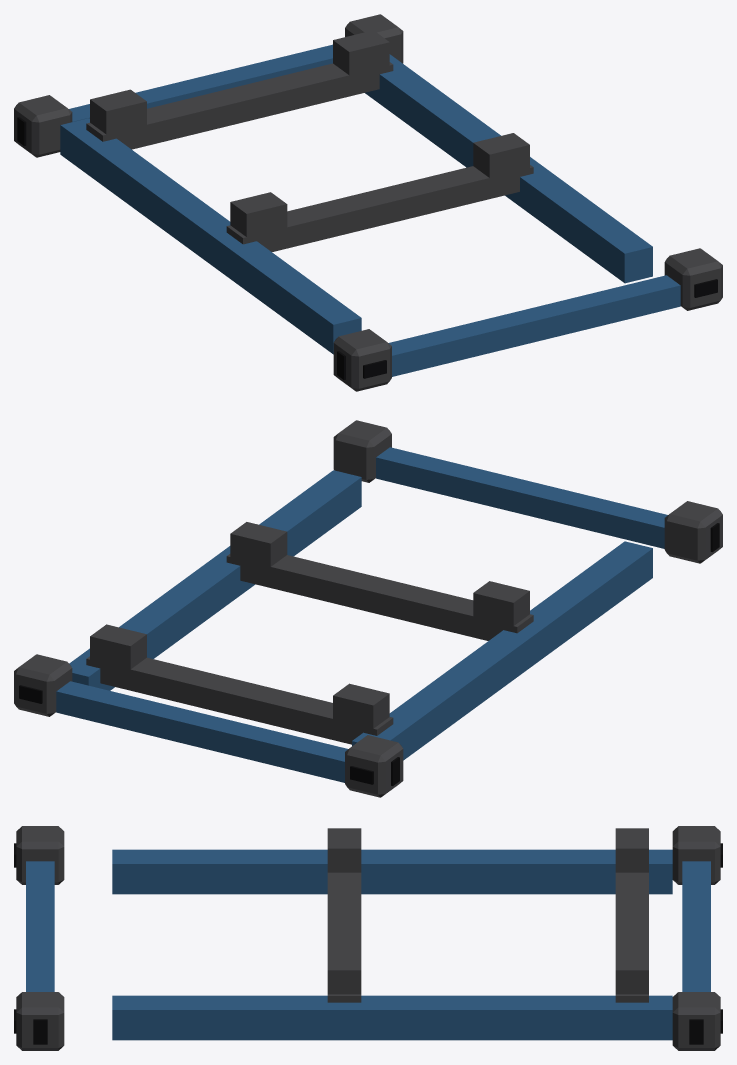
The model's file is pellet_frame.obj.
3 views of the same model, one above another, from view 1: azimuth 30°, elevation 25°; view 2: azimuth 150°, elevation 25°; view 3: azimuth 270°, elevation 25° (orthographic). The views are drawn at different scales.
Parts seen in each view (by area): view 1: pellet_frame; view 2: pellet_frame; view 3: pellet_frame.
Part boxes in pixels (x1,y1,x2,y2): pellet_frame: [14, 14, 722, 391]; pellet_frame: [14, 420, 722, 797]; pellet_frame: [14, 826, 722, 1050].
Bounding box in the file's own units: 0.928 × 0.145 × 1.48.
